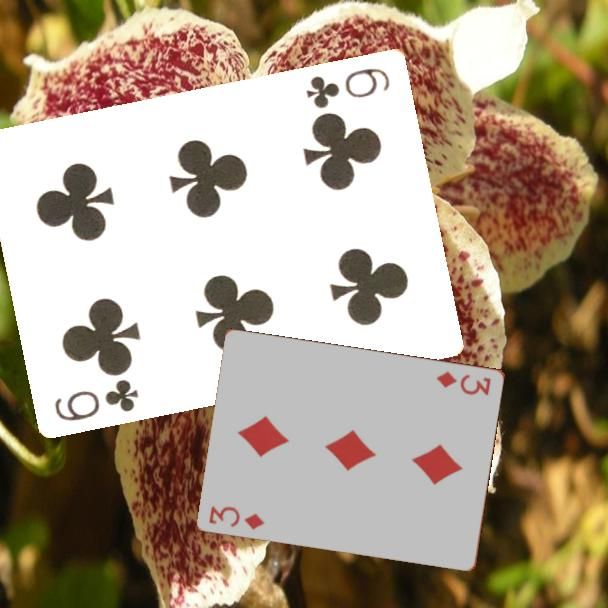c06: (51, 375, 142, 424), (303, 64, 393, 111)
d03: (433, 367, 494, 398), (206, 502, 268, 532)
